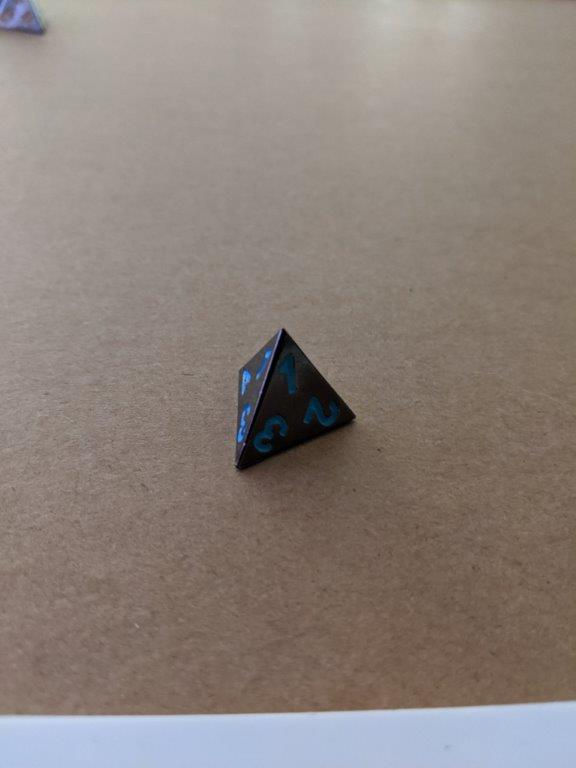d4-1: (224, 322, 362, 475)
